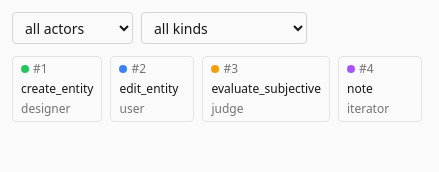
Timeline › filters by actor
Select "user" in the dropdown named "filter actor": (72, 28) [12,12,133,44]
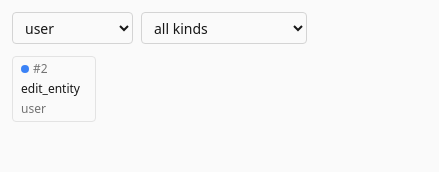
Expected: the number of buttons is 1, [12,56,96,122]
